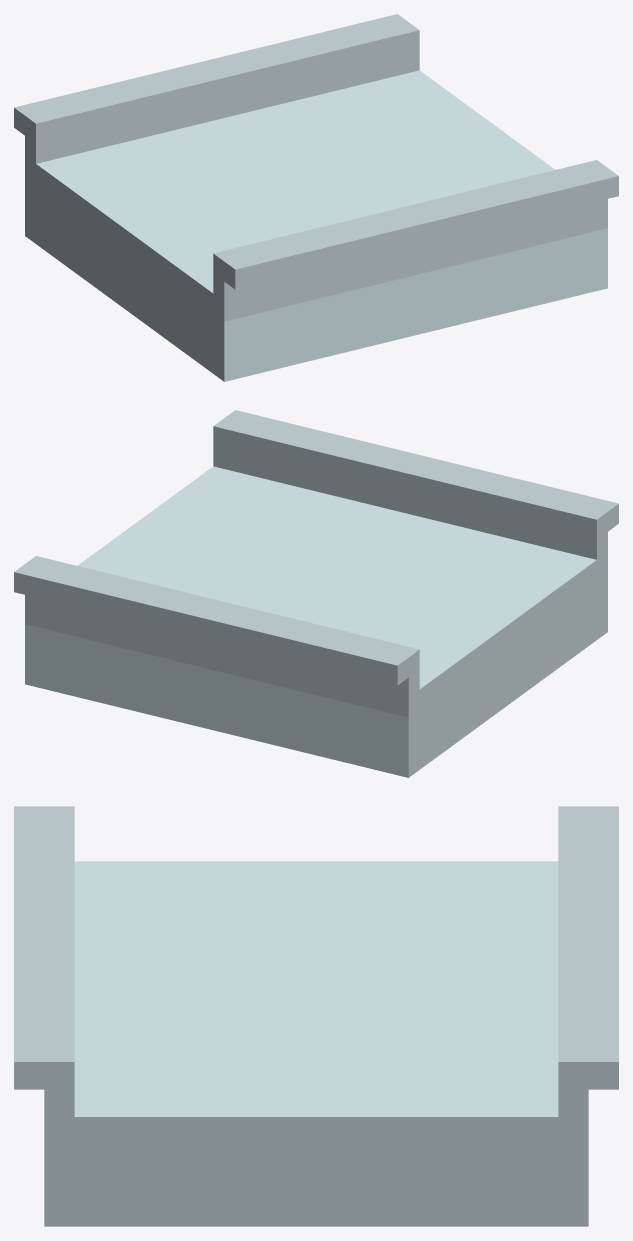
The model's file is bridge_center_stone.glb.
3 views of the same model, one above another, from view 1: azimuth 30°, elevation 25°; view 2: azimuth 150°, elevation 25°; view 3: azimuth 270°, elevation 25° (orthographic). The views are drawn at different scales.
Visible parts, largest first — view 1: bridge_center_stone; view 2: bridge_center_stone; view 3: bridge_center_stone.
Part boxes in pixels (x1,y1,x2,y2): bridge_center_stone: (14, 14, 618, 381); bridge_center_stone: (14, 410, 618, 777); bridge_center_stone: (14, 806, 618, 1226).
Bounding box in the file's own units: 1 × 0.3 × 1.
